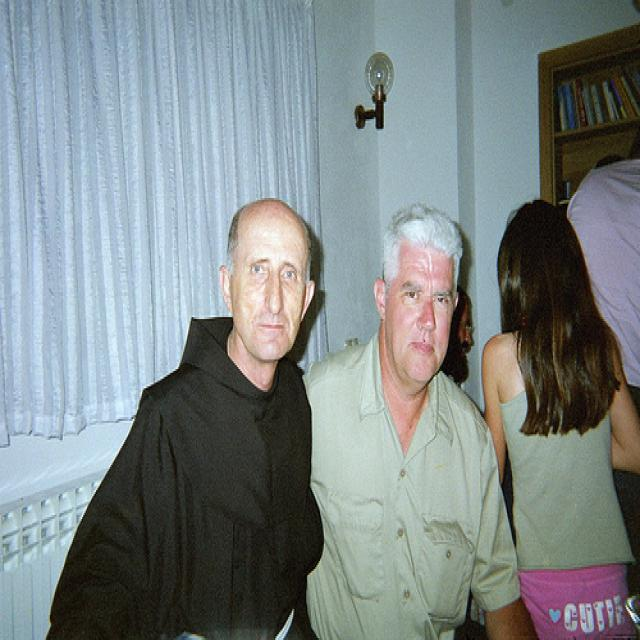person: (47, 197, 320, 639), (303, 201, 517, 639), (478, 193, 640, 639)
